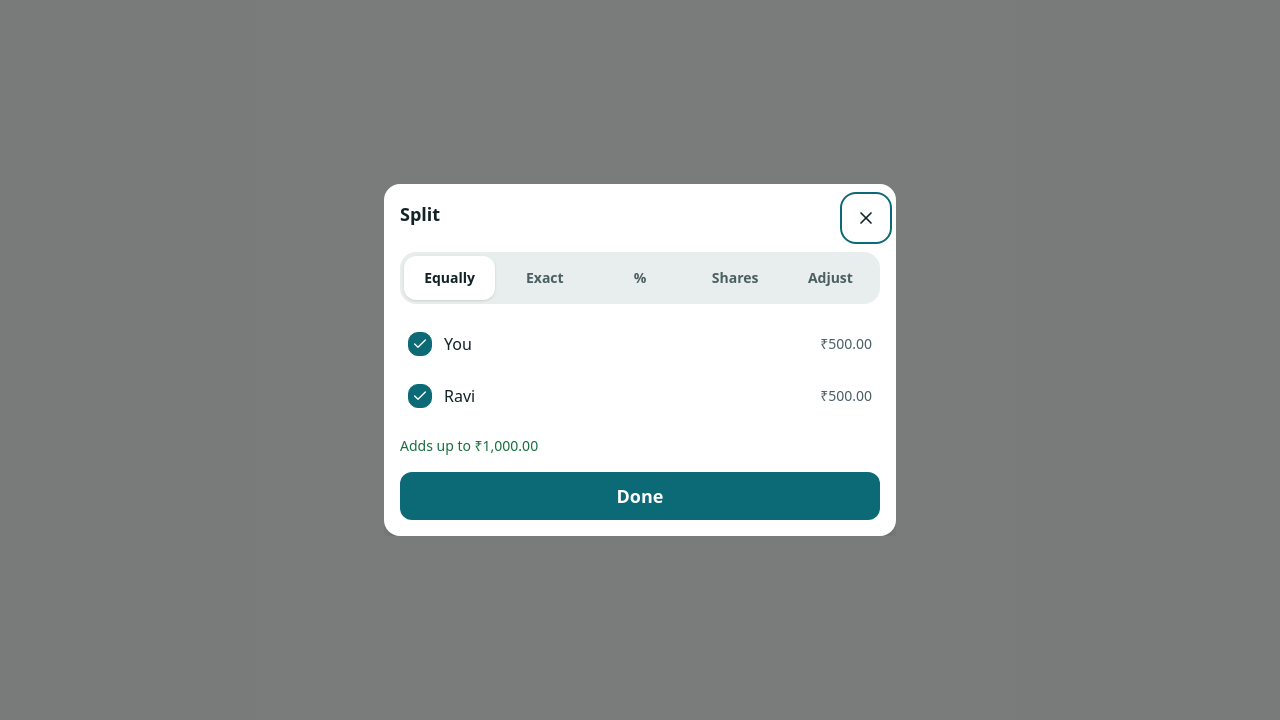
Test: SplitSheet › shows what is left in exact mode as you type
Click the button "Exact".
click(545, 278)  # box [499,256,590,300]
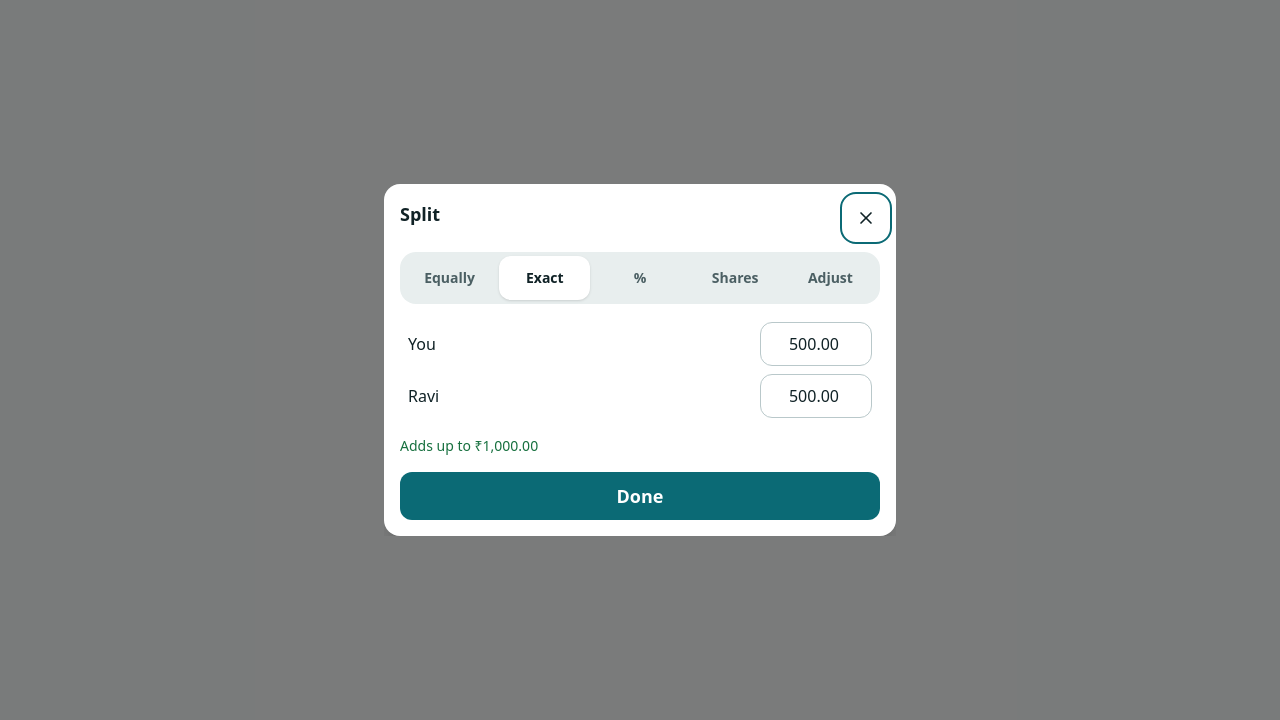
Expected: the text "Adds up to ₹1,000.00" is shown, [400,436,538,455]
Replace the text in the field labelled "Ravi" with "300" at (816, 396), box [760,374,872,418]
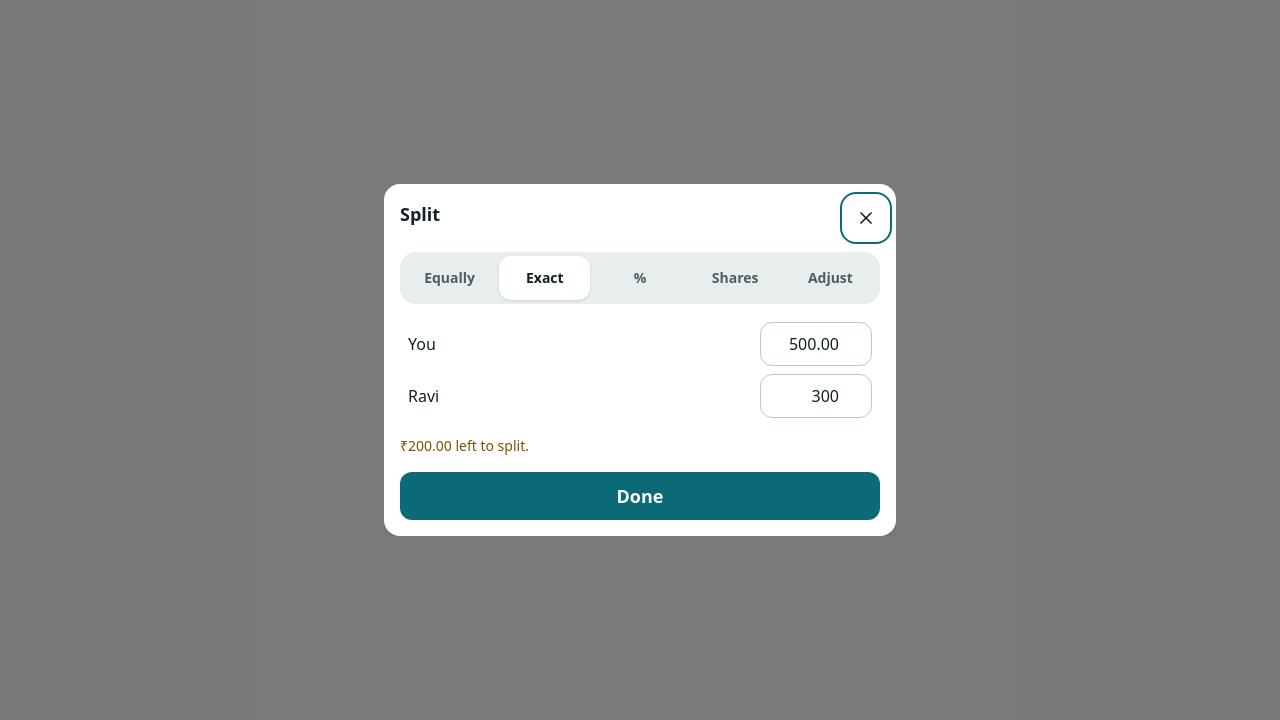
Result: the text "₹200.00 left to split." is shown at [400,436,529,455]
Replace the text in the field labelled "You" with "800" at (816, 344), box [760,322,872,366]
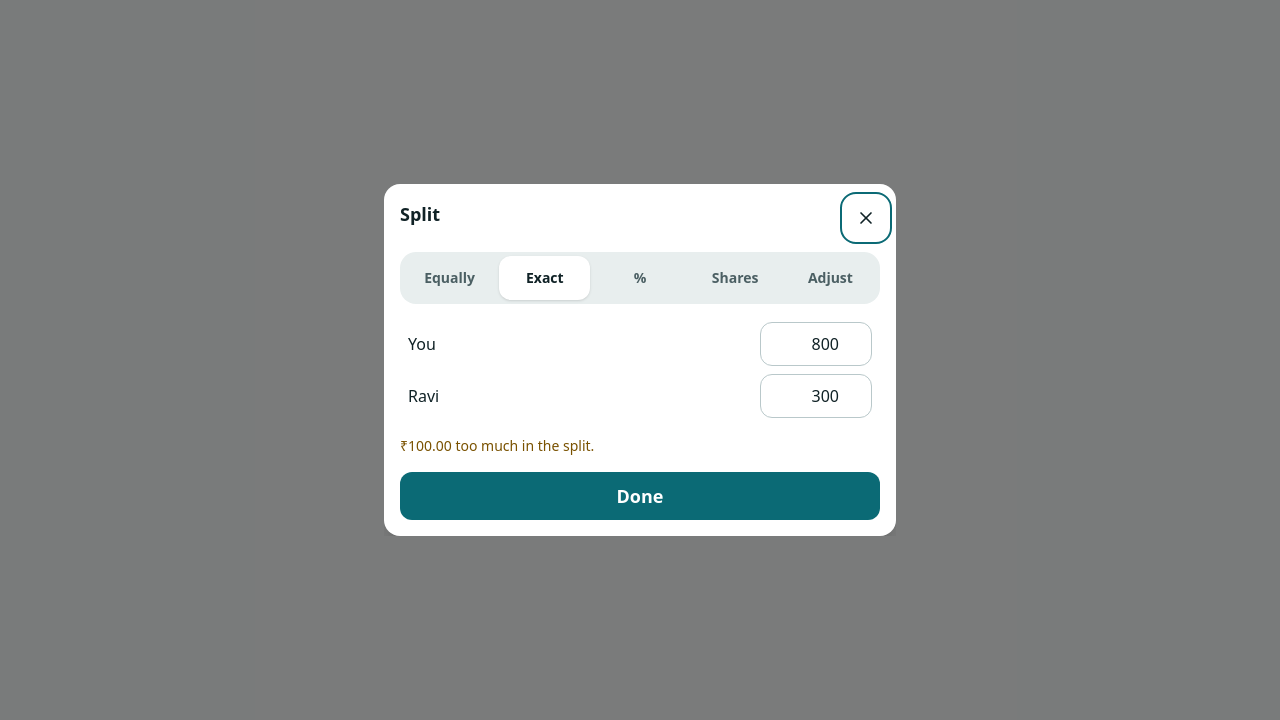
Result: the text "₹100.00 too much in the split." is shown at [400,436,594,455]
